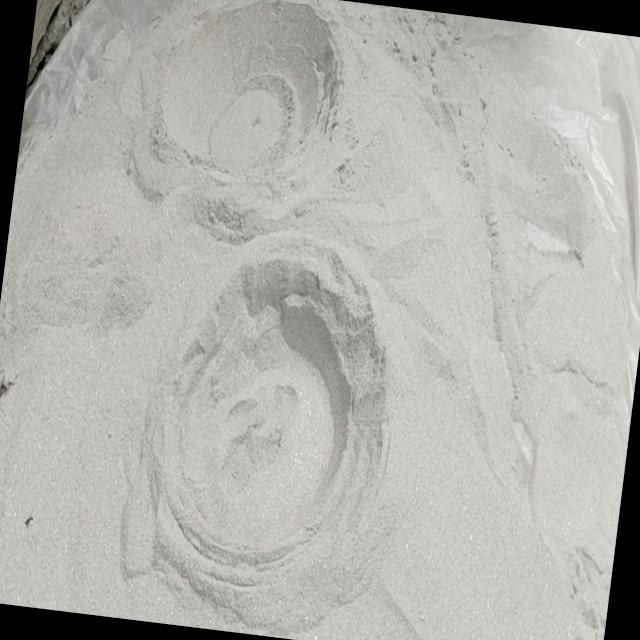C20: (157, 274, 377, 576), (163, 0, 335, 173)
